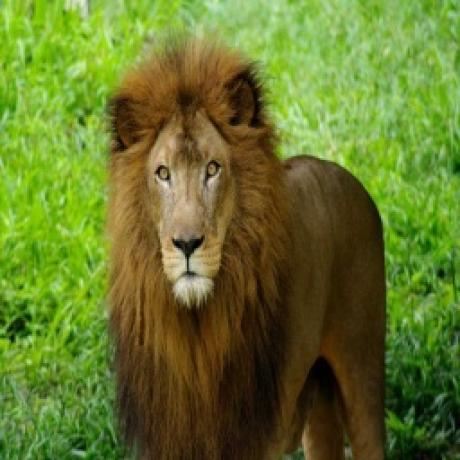Lion: (102, 29, 390, 460)
